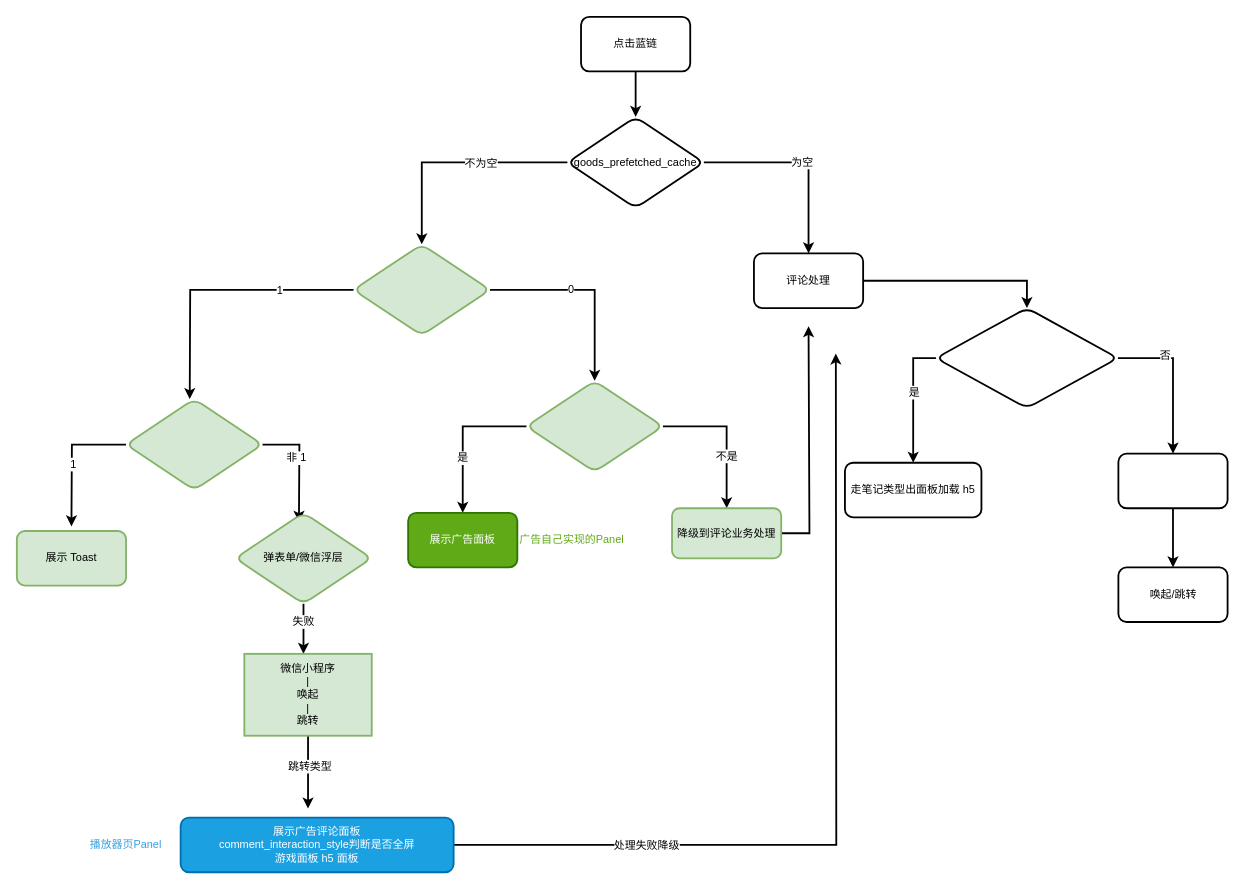
Image size: 1244x888. Some labels were removed from this diagram. Here are the shapes that lost their labels. From the top down, the box of each, then its label:
(352, 243, 490, 336): goods_cm_control
(935, 307, 1118, 409): isHalfScreen&&!webIsFullScreen
(125, 398, 263, 490): comment_toast_open
(525, 379, 663, 472): 是否是竖屏
(1117, 452, 1228, 509): 对 Url 正常处理
